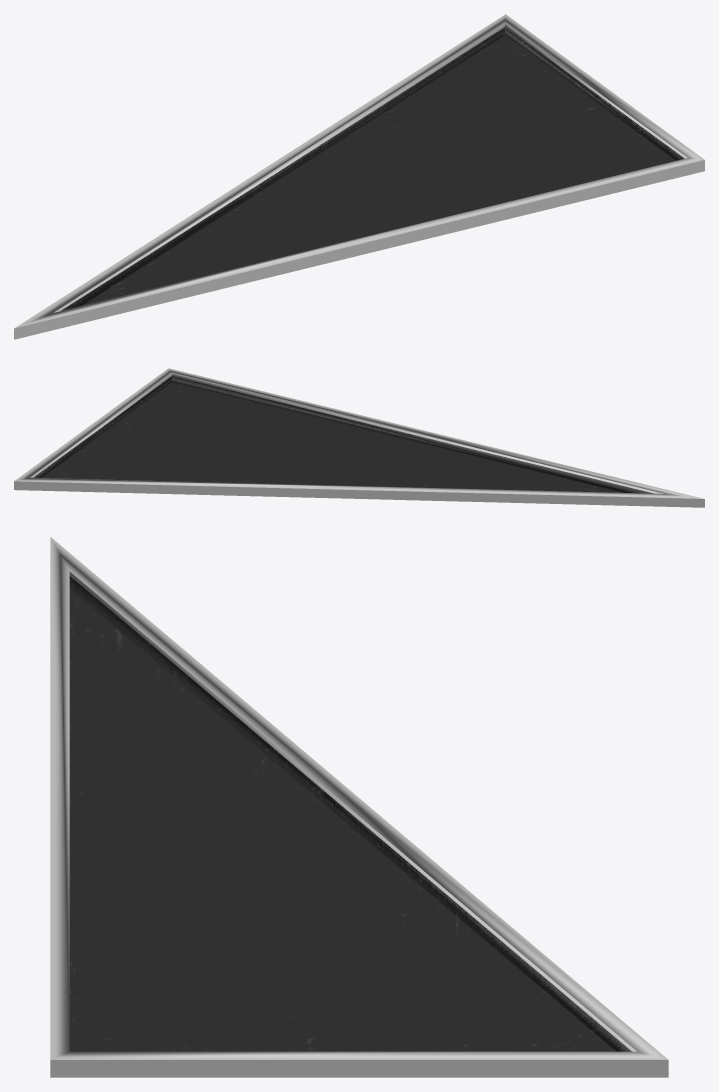
Rendered from glass_4x1_triangle.fbx.
3 views of the same model, one above another, from view 1: azimuth 30°, elevation 25°; view 2: azimuth 150°, elevation 25°; view 3: azimuth 270°, elevation 25° (orthographic). The views are drawn at different scales.
Visible parts, largest first — view 1: glass_4x1_triangle; view 2: glass_4x1_triangle; view 3: glass_4x1_triangle.
Part boxes in pixels (x1,y1,x2,y2): glass_4x1_triangle: [14, 14, 704, 339]; glass_4x1_triangle: [14, 368, 704, 507]; glass_4x1_triangle: [50, 537, 668, 1077].
Bounding box in the file's own units: 160 × 2.5 × 79.97.
